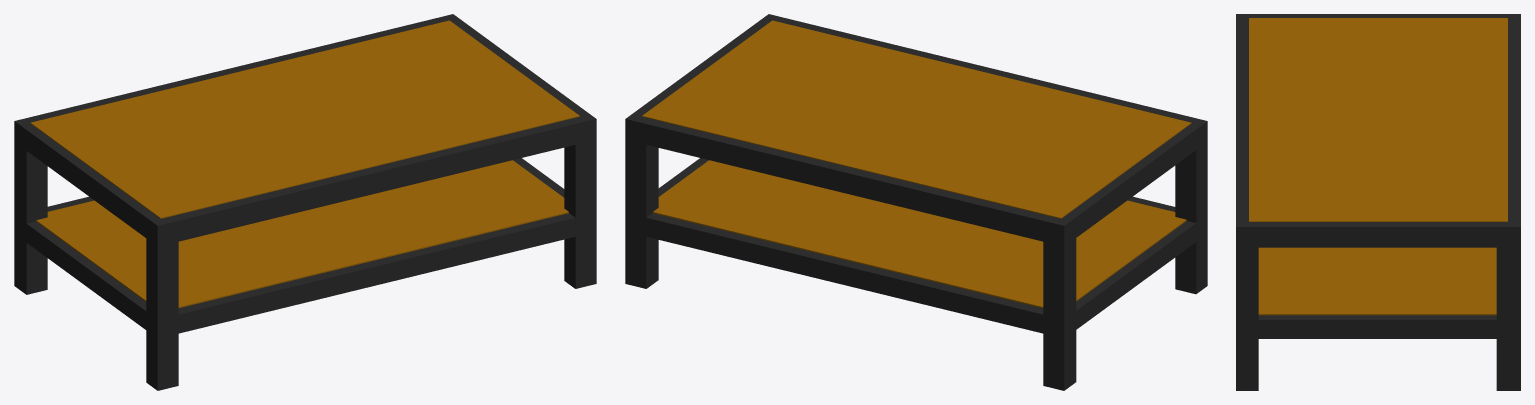
File: teatable.fbx
The picture shows the model from 3 angles, left to right: view 1: azimuth 30°, elevation 25°; view 2: azimuth 150°, elevation 25°; view 3: azimuth 270°, elevation 25°; orthographic projection.
Parts seen in each view (by area): view 1: Cube.001, Cube, Cube.002; view 2: Cube.001, Cube, Cube.002; view 3: Cube.001, Cube, Cube.002.
Boxes of the visible parts, x1,y1,x2,y2 form: Cube.001: (30, 20, 579, 218); Cube: (14, 14, 596, 390); Cube.002: (36, 160, 568, 307); Cube.001: (642, 20, 1191, 218); Cube: (625, 14, 1207, 390); Cube.002: (653, 160, 1186, 307); Cube.001: (1249, 18, 1507, 221); Cube: (1236, 14, 1520, 390); Cube.002: (1258, 247, 1496, 315).
Bounding box in the file's own units: 593 × 214 × 335.
